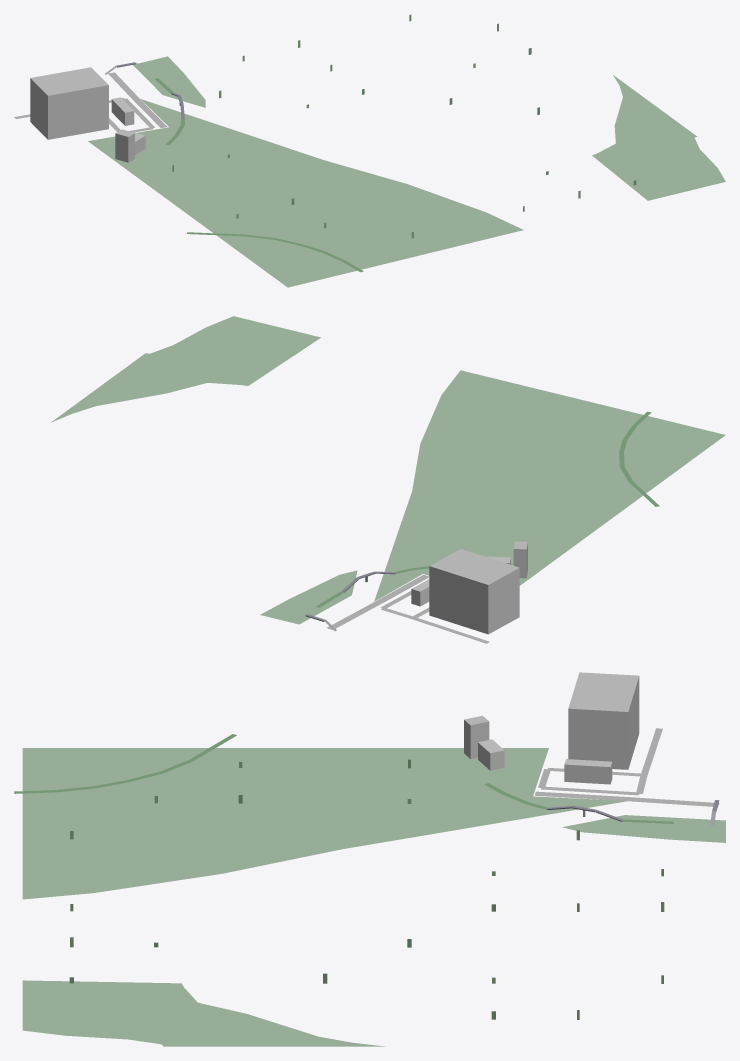
3 views of the same model, one above another, from view 1: azimuth 30°, elevation 25°; view 2: azimuth 150°, elevation 25°; view 3: azimuth 270°, elevation 25° (orthographic). The views are drawn at different scales.
Bounding box in the file's own units: 534 × 46.2 × 506.
